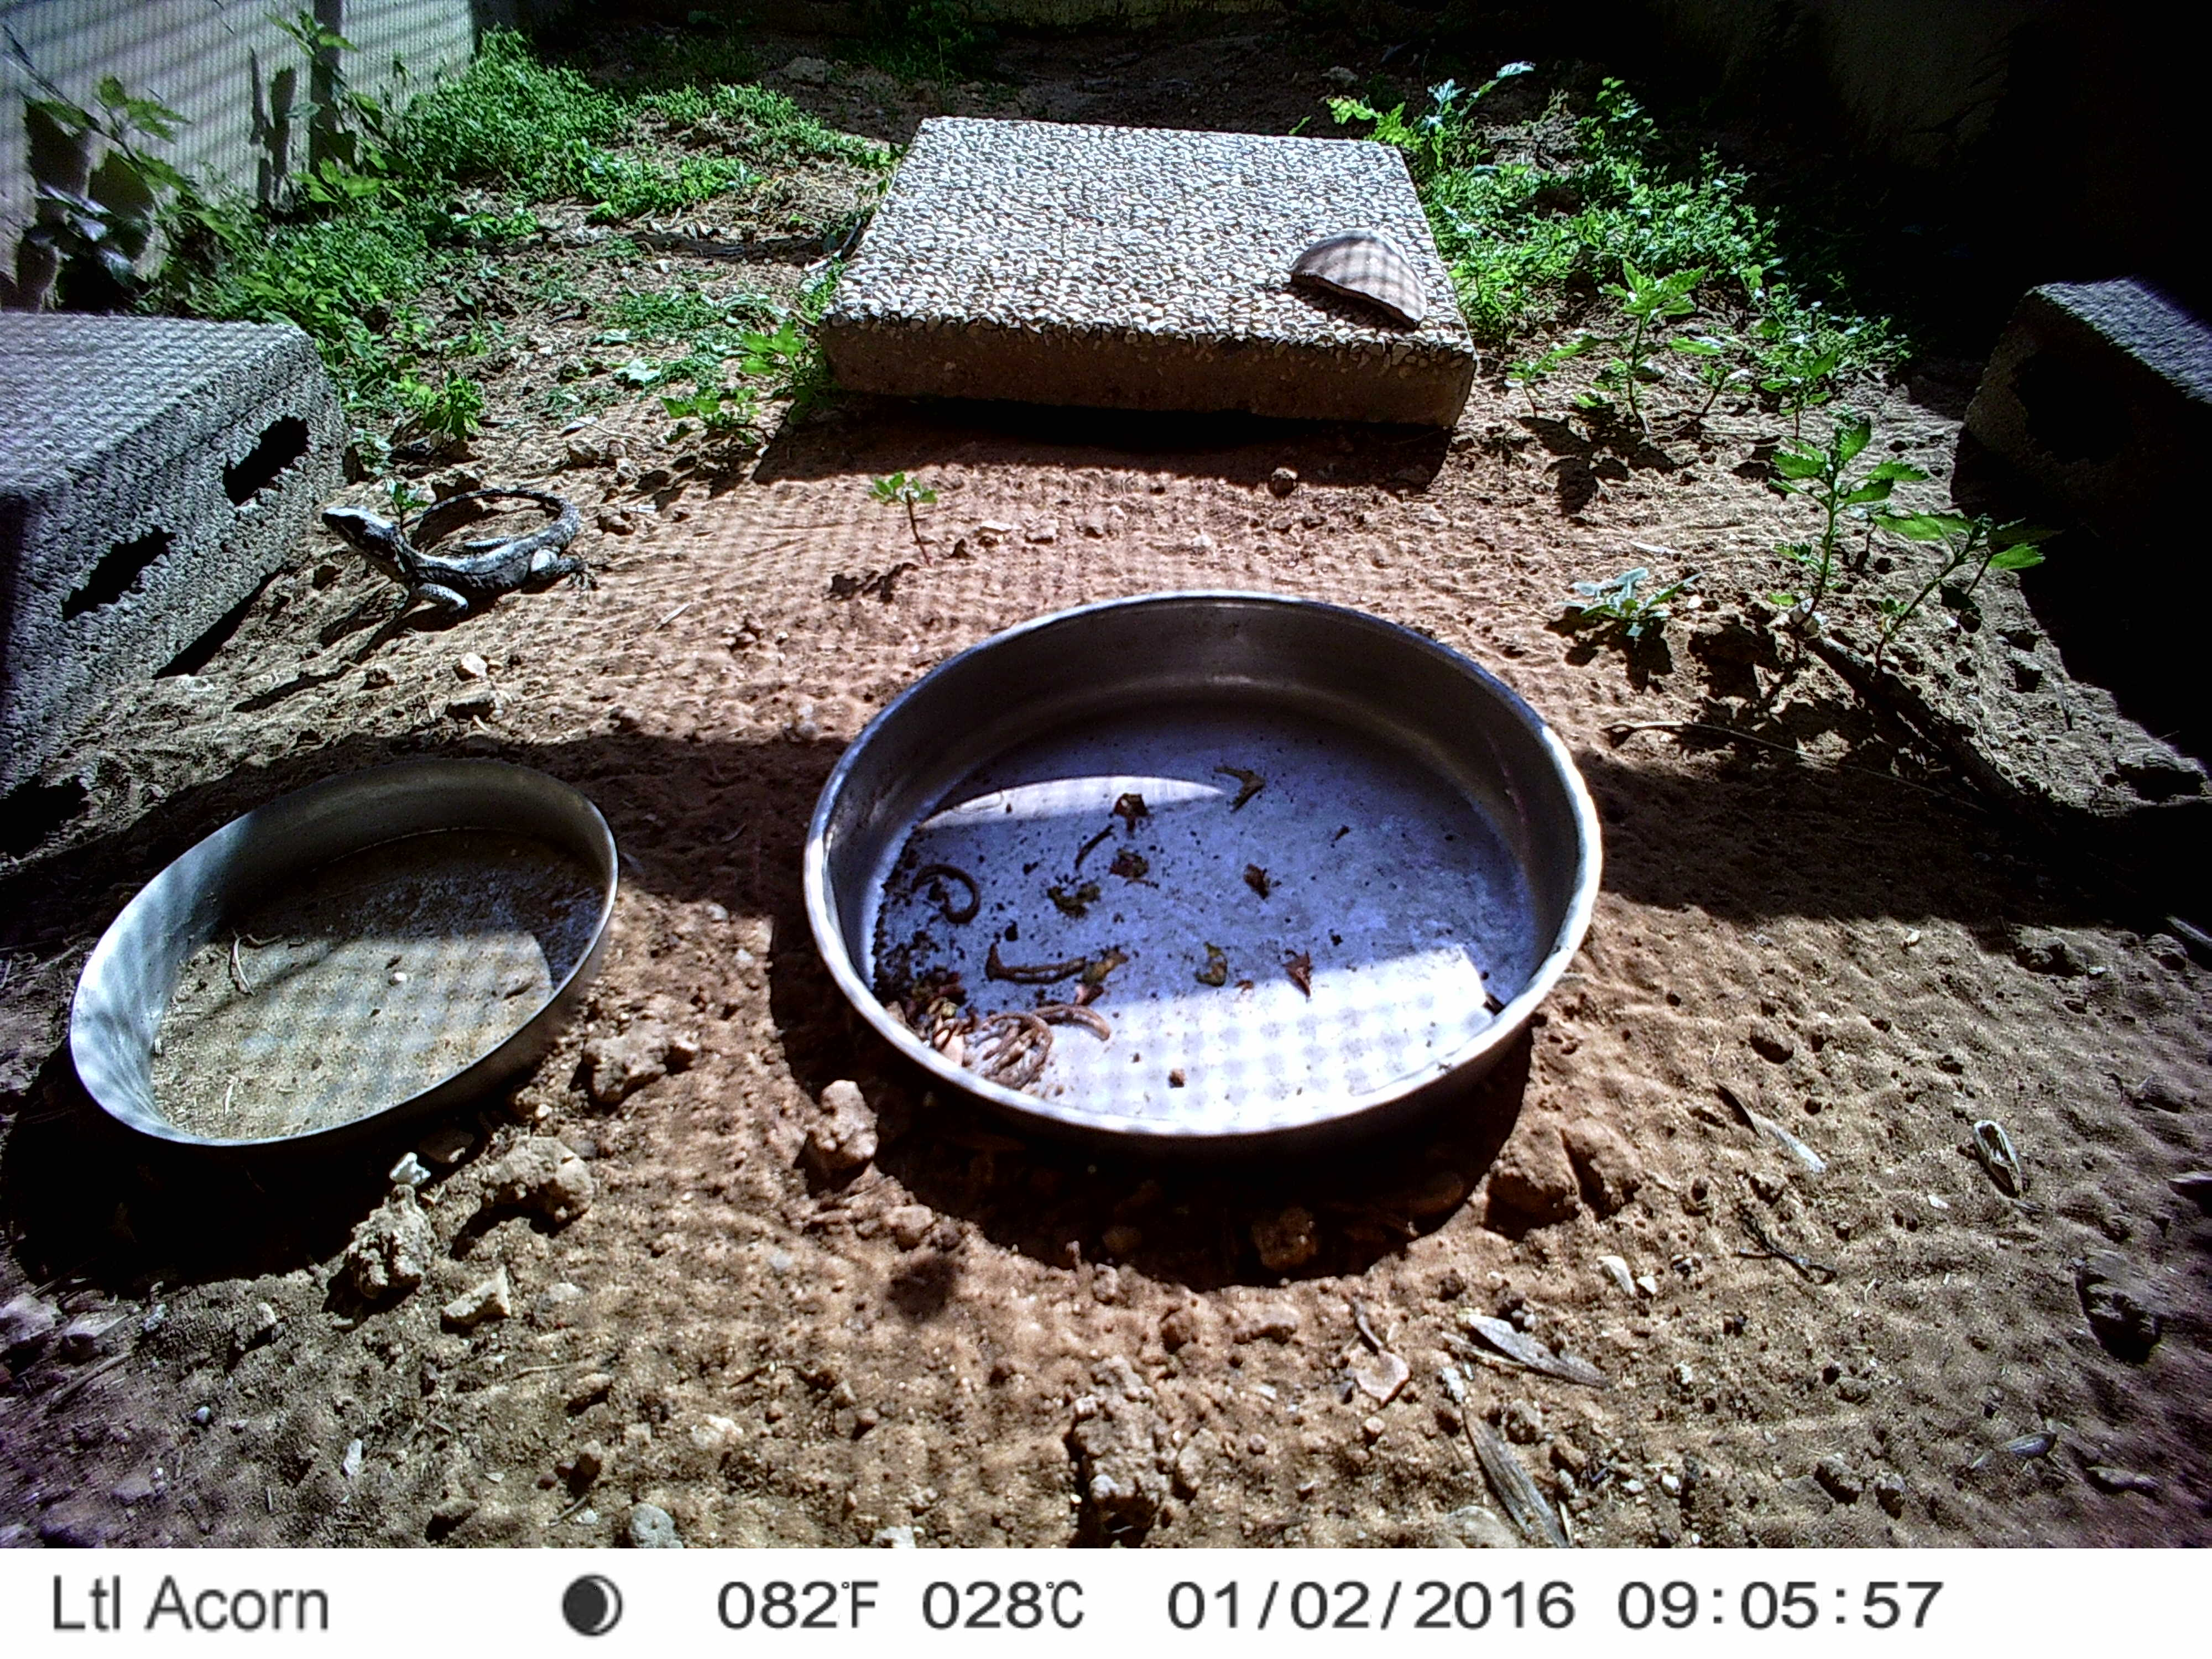lizard: (317, 476, 590, 622)
